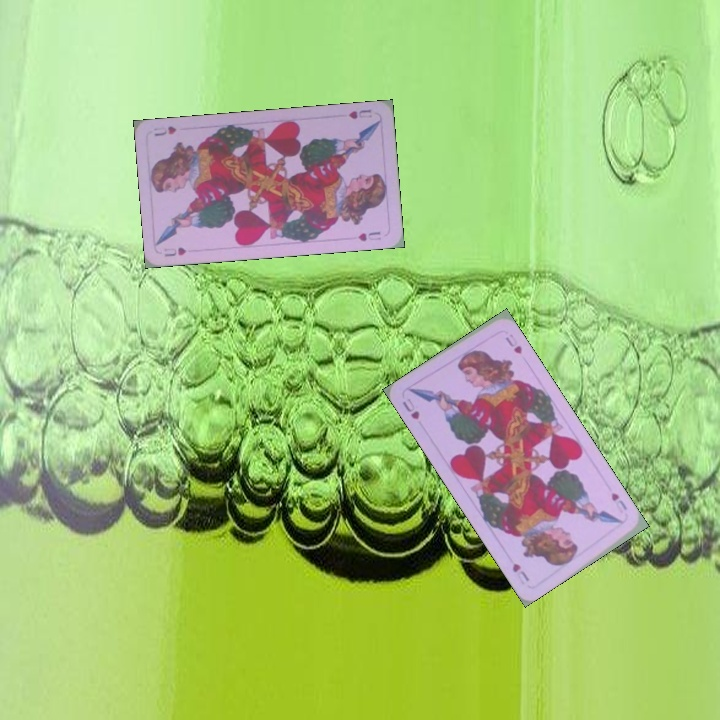HU: (607, 488, 630, 524), (398, 394, 422, 422), (344, 105, 374, 122), (160, 243, 189, 259)
